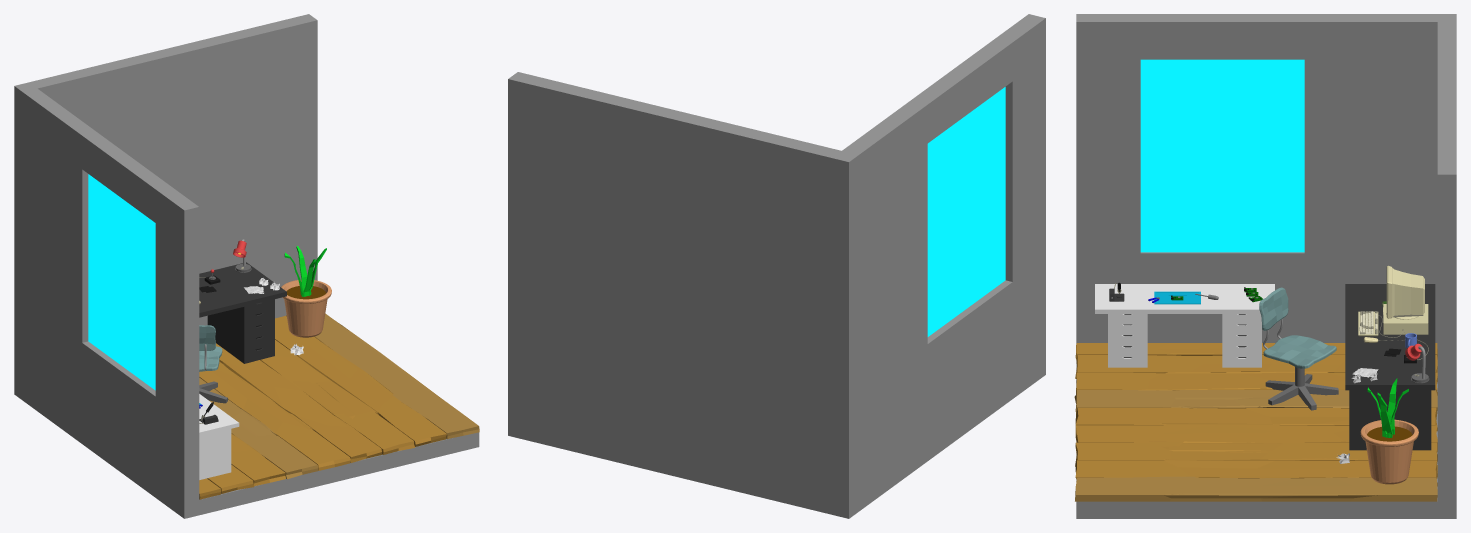
Rendered from RetroIsometricRoom.fbx.
The picture shows the model from 3 angles, left to right: view 1: azimuth 30°, elevation 25°; view 2: azimuth 150°, elevation 25°; view 3: azimuth 270°, elevation 25°; orthographic projection. The views are drawn at different scales.
Visible parts, largest first — view 1: Cube, Cube.014, Cube.009, Cube.010, Cube.007, Cube.008, Cube.006, Cube.012, Plane.007, Cube.005, Cube.011, Cube.029 (+3 smaller); view 2: Cube, Cube.014; view 3: Cube, Cube.014, Cube.010, Cube.029, Cube.011, Cube.008, Cube.009, Cube.006, Cube.007, Cube.005, Cube.004, Cylinder.009 (+8 smaller).
Part boxes in pixels (left/top/right/bottom): Cube: left=14, top=14, right=479, bottom=518; Cube.014: left=88, top=174, right=155, bottom=390; Cube.009: left=275, top=315, right=446, bottom=446; Cube.010: left=286, top=313, right=479, bottom=438; Cube.007: left=216, top=343, right=381, bottom=462; Cube.008: left=260, top=339, right=415, bottom=454; Cube.006: left=199, top=361, right=350, bottom=470; Cube.012: left=207, top=299, right=274, bottom=363; Plane.007: left=281, top=246, right=331, bottom=337; Cube.005: left=199, top=377, right=318, bottom=479; Cube.011: left=199, top=262, right=286, bottom=317; Cube.029: left=199, top=394, right=239, bottom=479; Cube: left=508, top=14, right=1045, bottom=518; Cube.014: left=927, top=87, right=1005, bottom=336; Cube: left=1076, top=14, right=1456, bottom=518; Cube.014: left=1140, top=59, right=1304, bottom=252; Cube.010: left=1075, top=476, right=1437, bottom=501; Cube.029: left=1095, top=284, right=1274, bottom=367; Cube.011: left=1345, top=284, right=1435, bottom=390; Cube.008: left=1075, top=441, right=1437, bottom=466; Cube.009: left=1075, top=460, right=1437, bottom=479; Cube.006: left=1075, top=407, right=1437, bottom=431; Cube.007: left=1075, top=424, right=1437, bottom=443; Cube.005: left=1074, top=390, right=1437, bottom=413; Cube.004: left=1076, top=372, right=1437, bottom=395; Cylinder.009: left=1259, top=287, right=1338, bottom=410.
Bounding box in the file's own units: 249 × 249 × 250.
